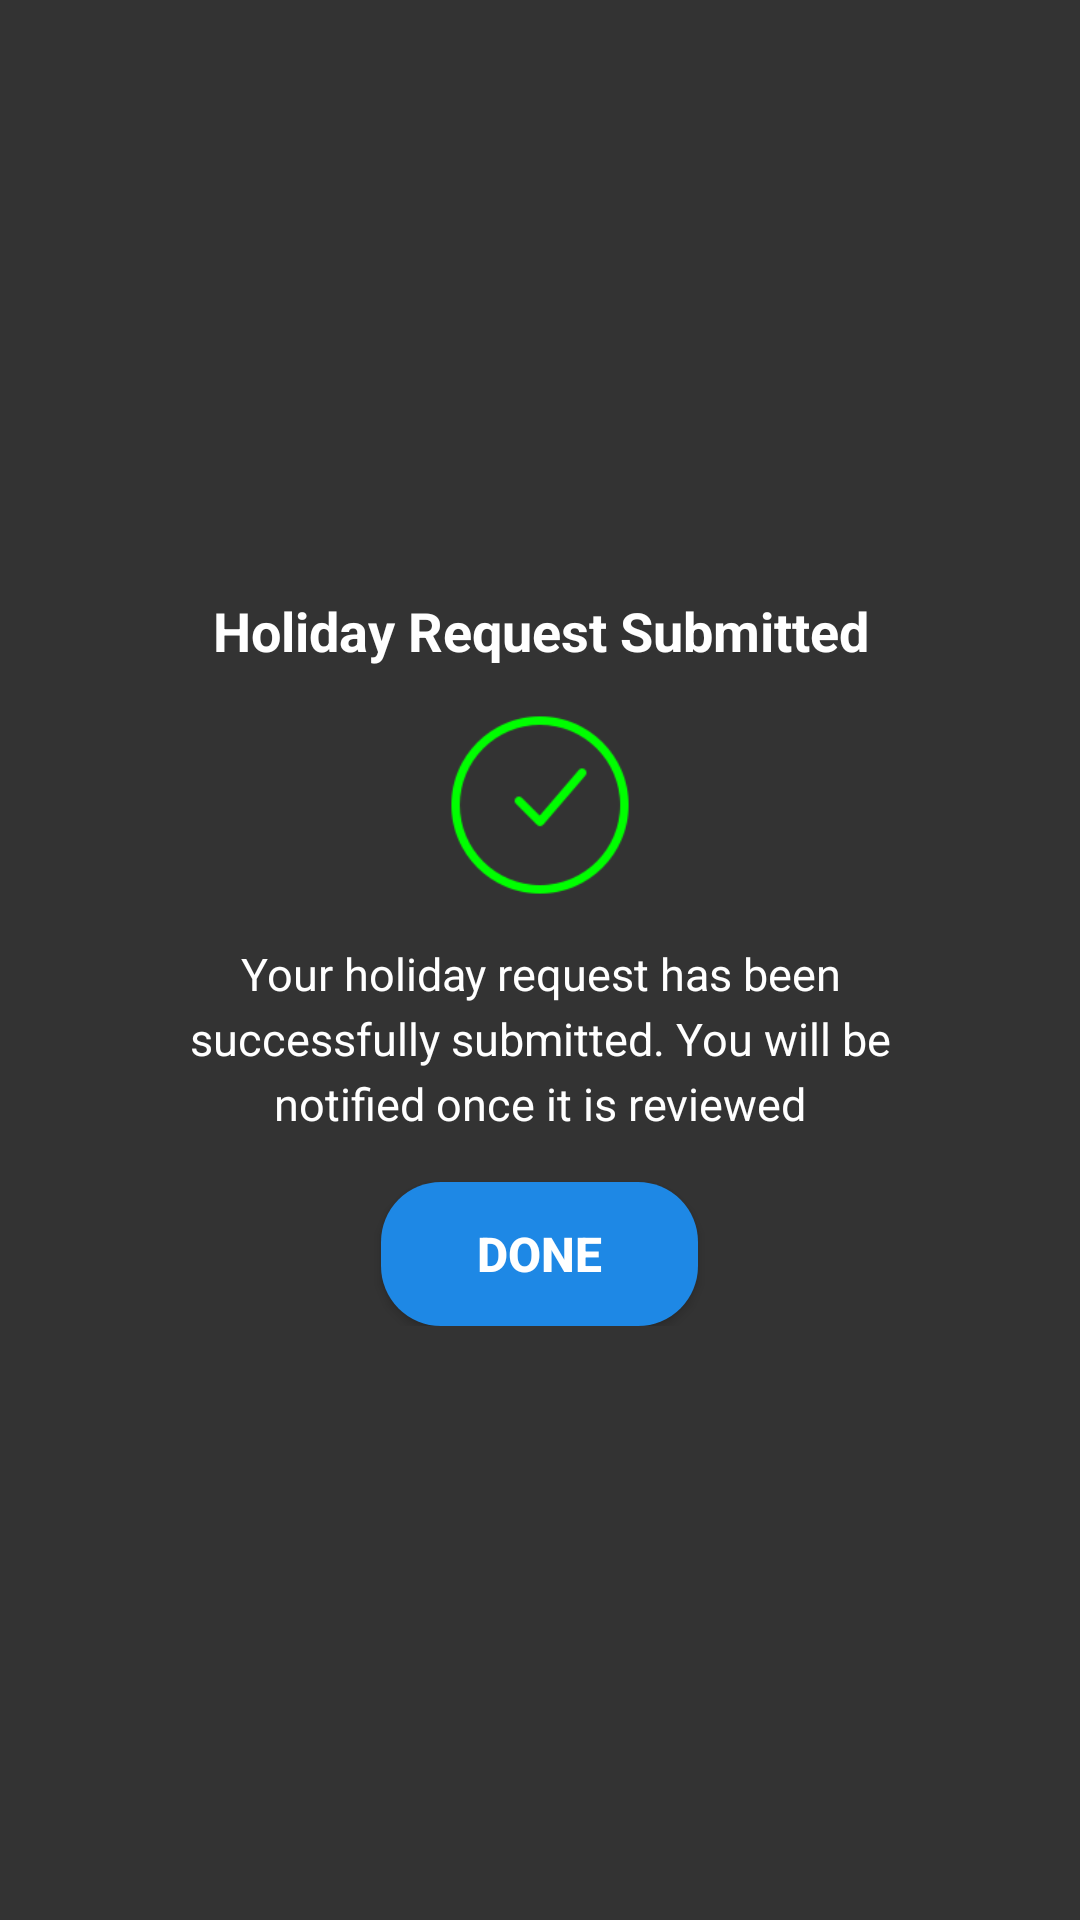

Point at icon controls on the screen. Image size 1080x1920, points as [x,y].
Tick: [540,805]
